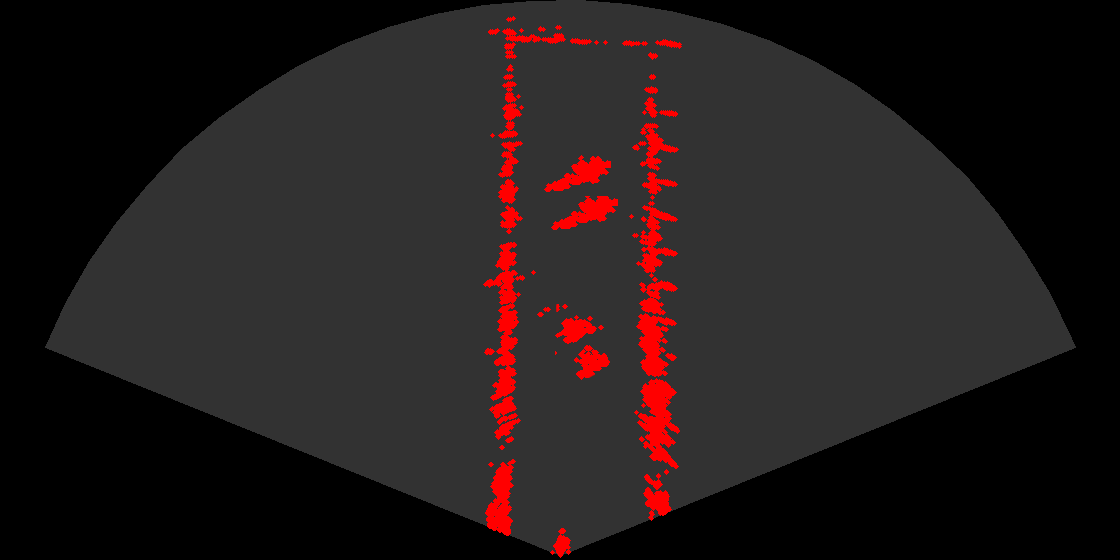cage: (555, 304, 618, 388)
frogman: (550, 187, 618, 234), (543, 149, 611, 196)
